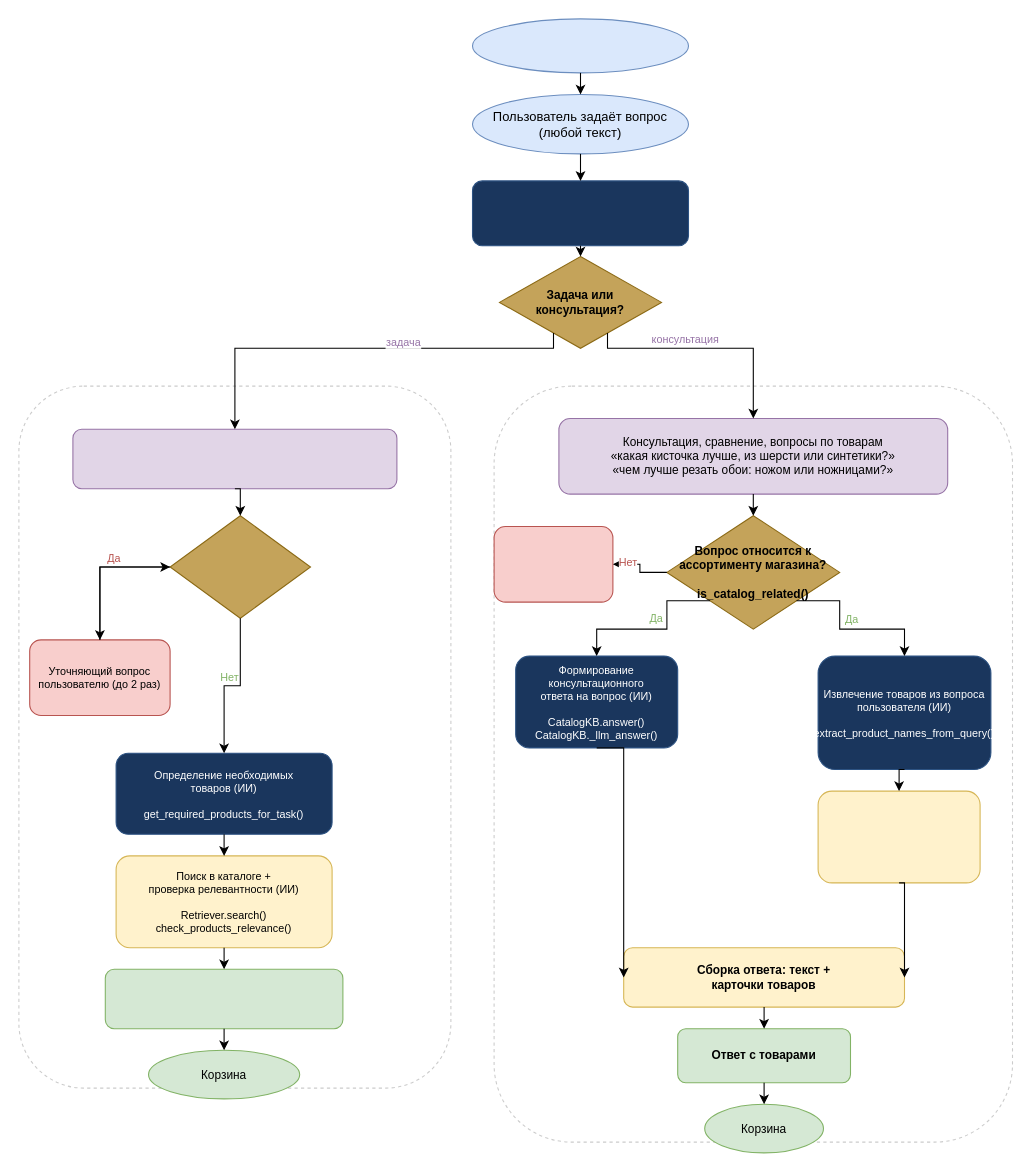
Image size: 1031x1172. Some labels were removed from this diagram. The centre of each missing label's shape, as x and y in pixels:
Вход в чатбот: point 579,45
Задача / Подбор товаров «хочу поклеить обои» «хочу построить беседку»: point 234,458
Нужно задать уточняющий вопрос? should_ask_clarification(): point 239,566
Определение типа запроса: подбор товаров или консультация (ИИ) classify_intent(): point 579,213
Ответ: вопрос не по тематике ассортимента: point 553,563
Поиск товаров в каталоге по названиям Retriever.search(): point 898,836
Список товаров для решения задачи: point 223,998
